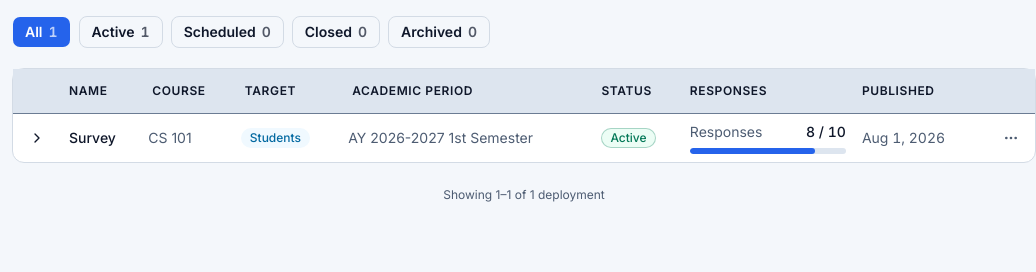
Test case: PublishedDeploymentsCollection › row toggle and disclosure button stay in sync when both are used
Click the text "Survey" at coordinates (524, 137), box [13,113,1035,162]
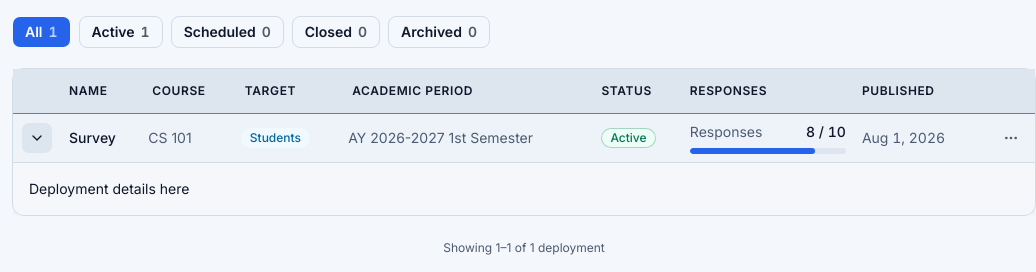
Check: the button named "Collapse Survey" is shown
Click the button named "Collapse Survey" at coordinates (37, 138), box [21,122,53,154]
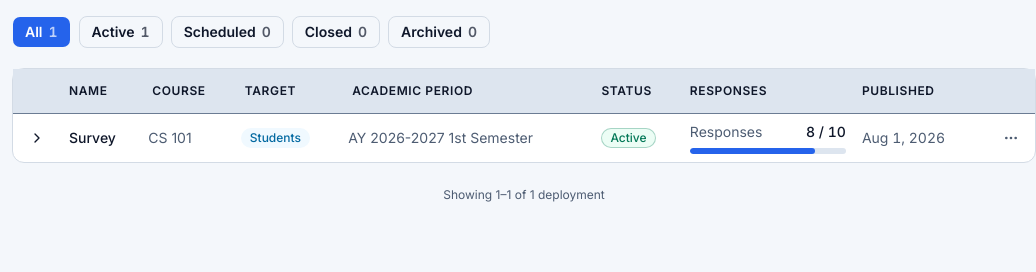
Check: the button named "Expand Survey" is shown, box [21,122,53,154]
